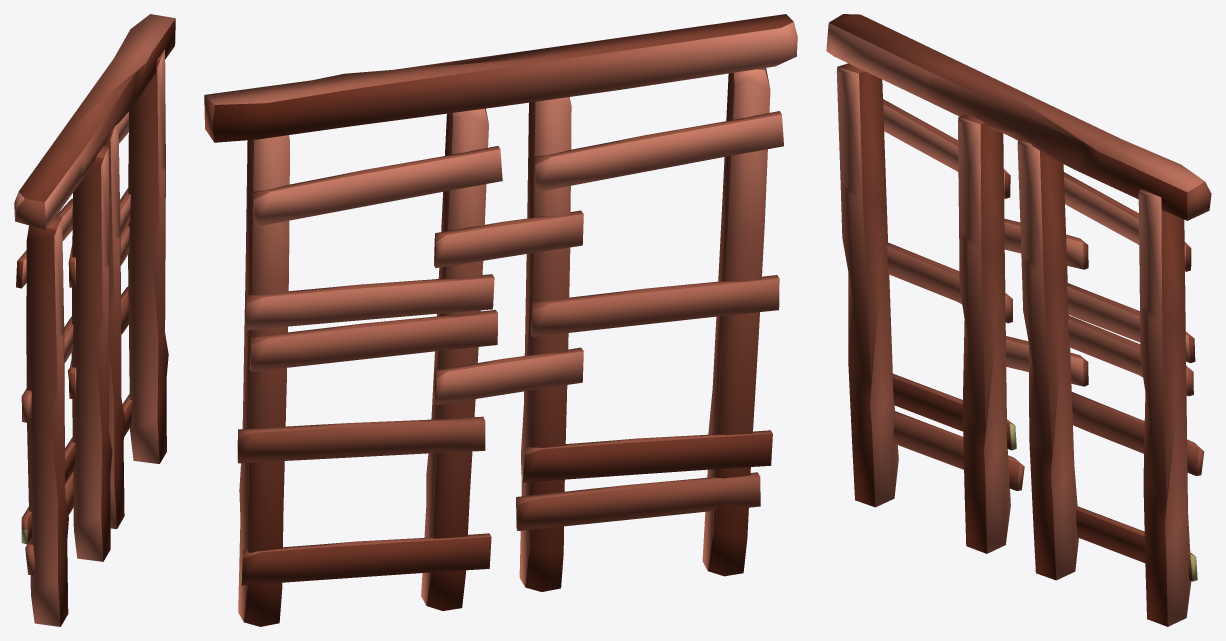
The model's file is Tapia13.Prop.13.fbx.
3 renders of one model, left to right at view 1: azimuth 30°, elevation 25°; view 2: azimuth 150°, elevation 25°; view 3: azimuth 270°, elevation 25°, orthographic. The views are drawn at different scales.
Visible parts, largest first — view 1: Vasija.002; view 2: Vasija.002; view 3: Vasija.002.
Part boxes in pixels (x1=…): Vasija.002: x1=14, y1=14, x2=175, y2=626; Vasija.002: x1=204, y1=14, x2=797, y2=626; Vasija.002: x1=826, y1=14, x2=1211, y2=626.
Size of the model in its own units: 298 by 393 by 295.
